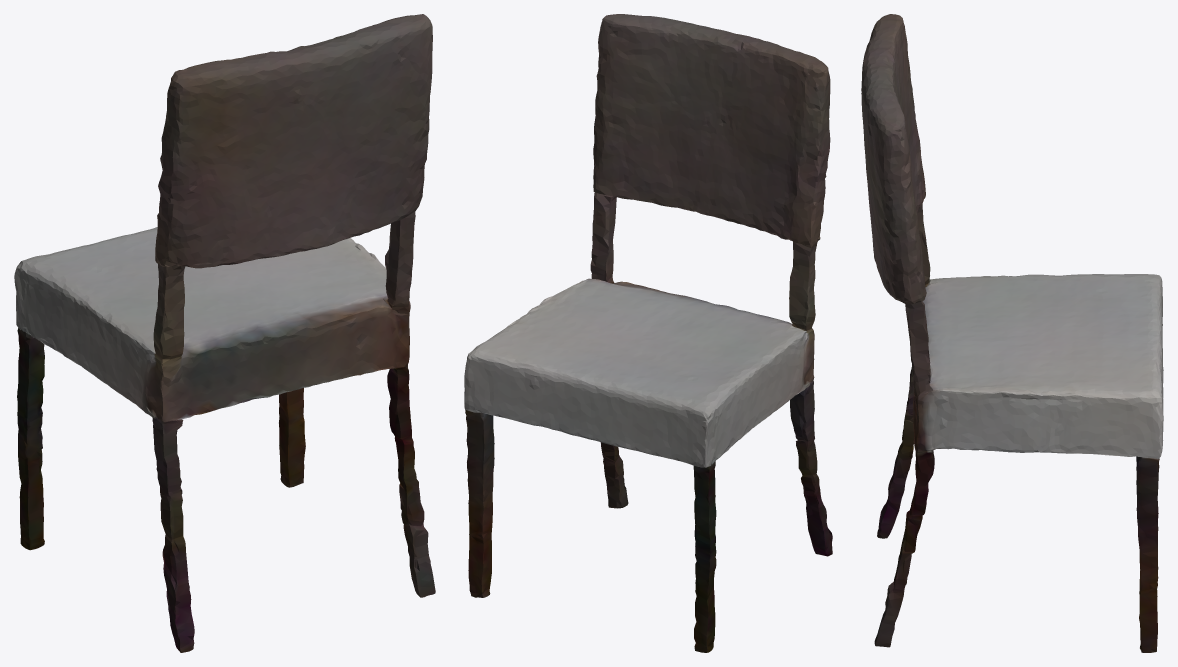
3 renders of one model, left to right at view 1: azimuth 30°, elevation 25°; view 2: azimuth 150°, elevation 25°; view 3: azimuth 270°, elevation 25°, orthographic. The views are drawn at different scales.
Visible parts, largest first — view 1: defaultobject; view 2: defaultobject; view 3: defaultobject.
Part boxes in pixels (bbox=[...]): defaultobject: bbox=[14, 14, 435, 652]; defaultobject: bbox=[464, 14, 832, 652]; defaultobject: bbox=[861, 14, 1163, 652].
Bounding box in the file's own units: 0.4127 × 0.8023 × 0.4181.
